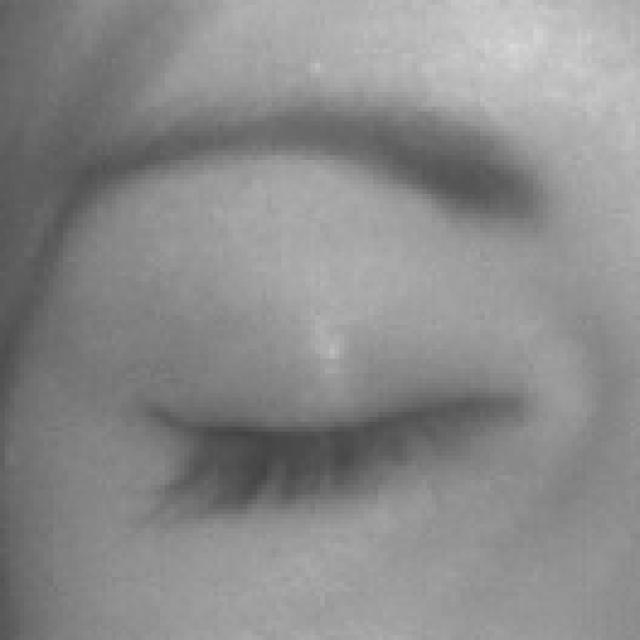Eyeclosed: (140, 283, 532, 578)
